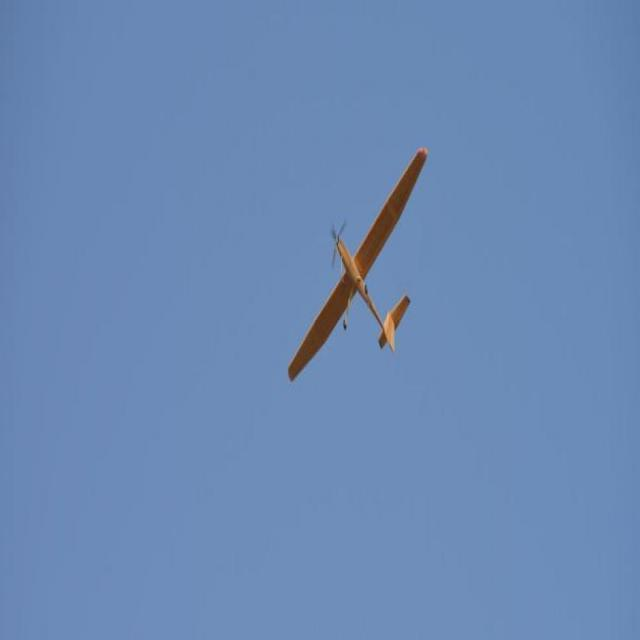UAV: (273, 132, 446, 400)
